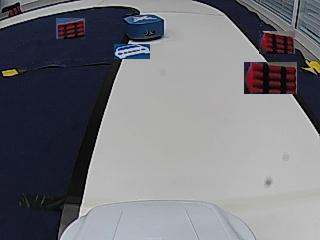prop: (124, 15, 164, 42)
